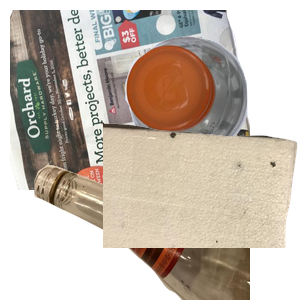glass: (31, 120, 271, 300)
paper: (10, 10, 250, 190)
plastic: (123, 33, 300, 181)
trash: (103, 120, 300, 300)
